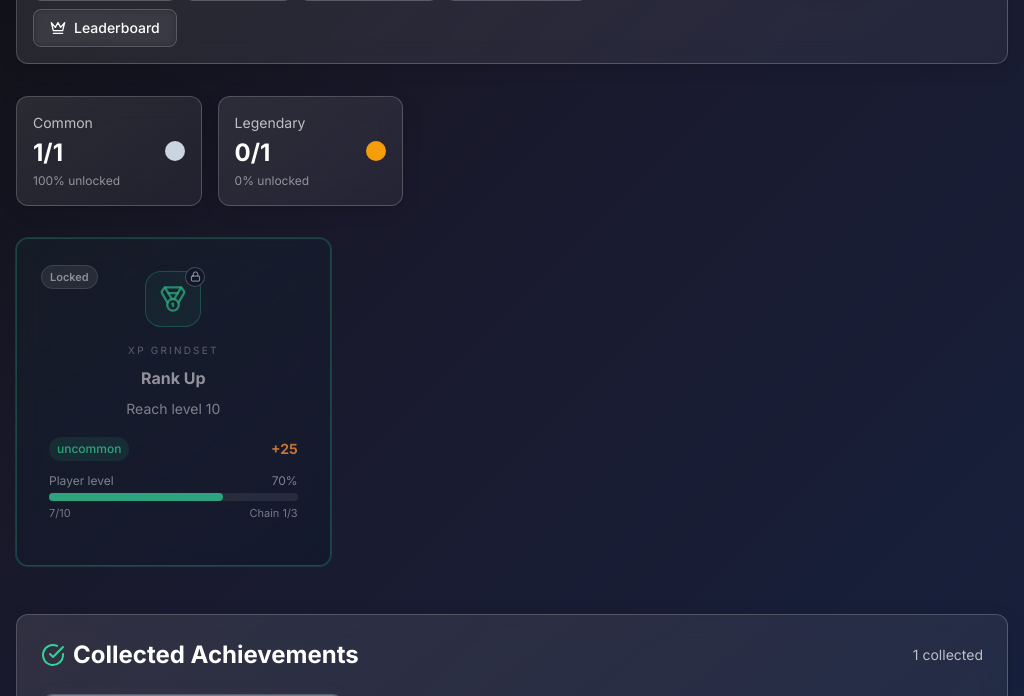
Test: AchievementsPage › supports keyboard navigation for chain tiers
(page scrolled)
Click the text "XP Grindset": (173, 350) [128,344,218,356]
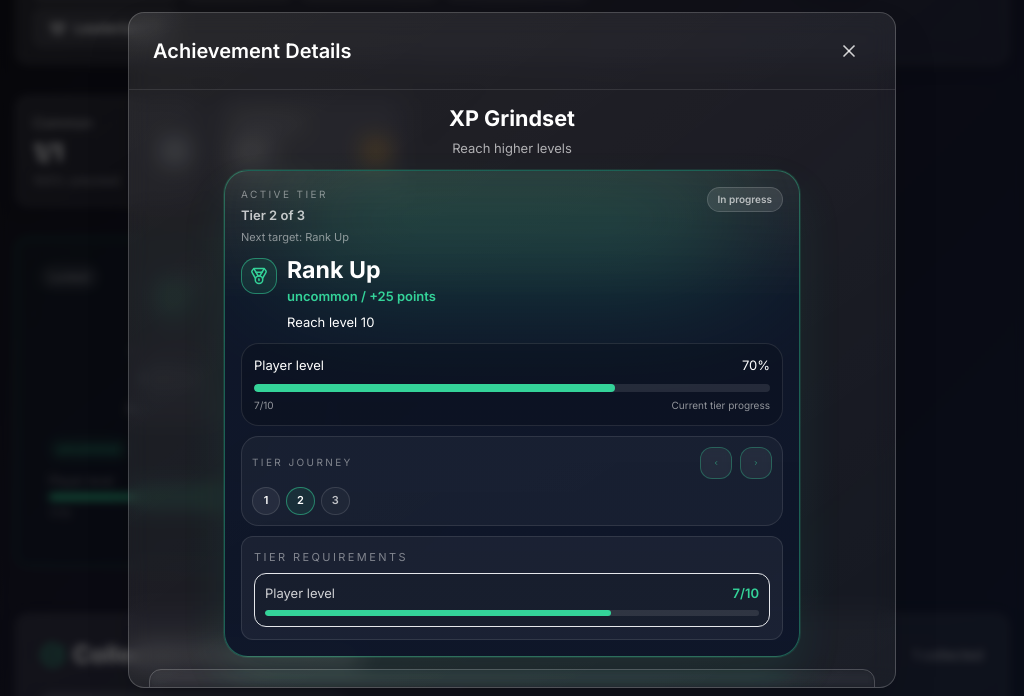
Now the text "Tier 2 of 3" is shown, box [241,207,305,223]
Press ArrowRight
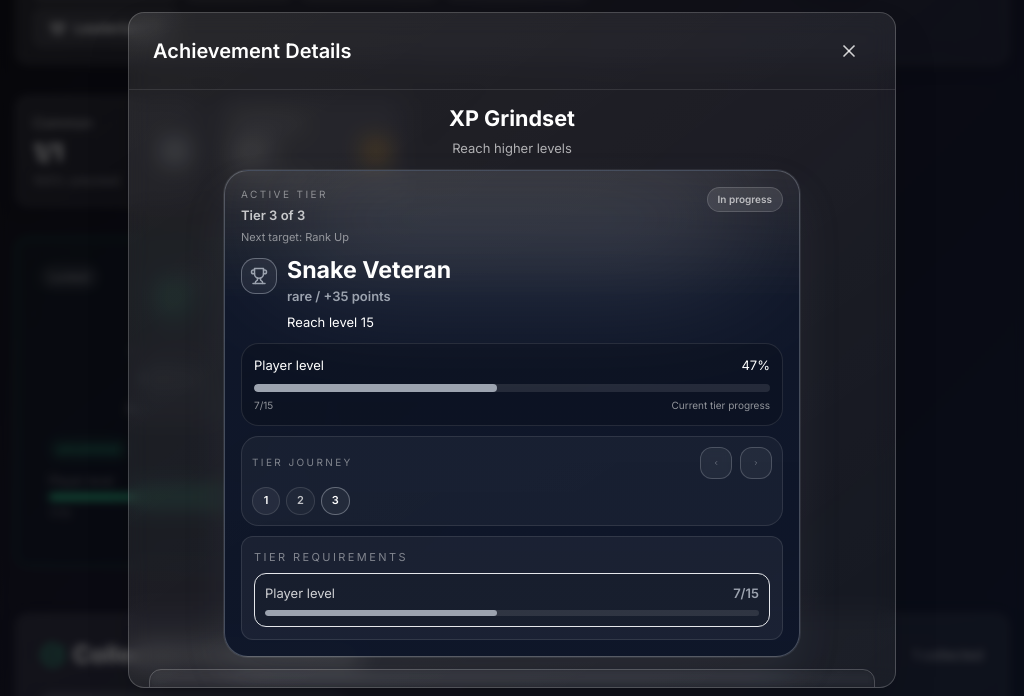
Now the text "Tier 3 of 3" is shown, box [241,207,305,223]
Now the heading "Snake Veteran" is shown, box [287,256,451,285]
Press Home
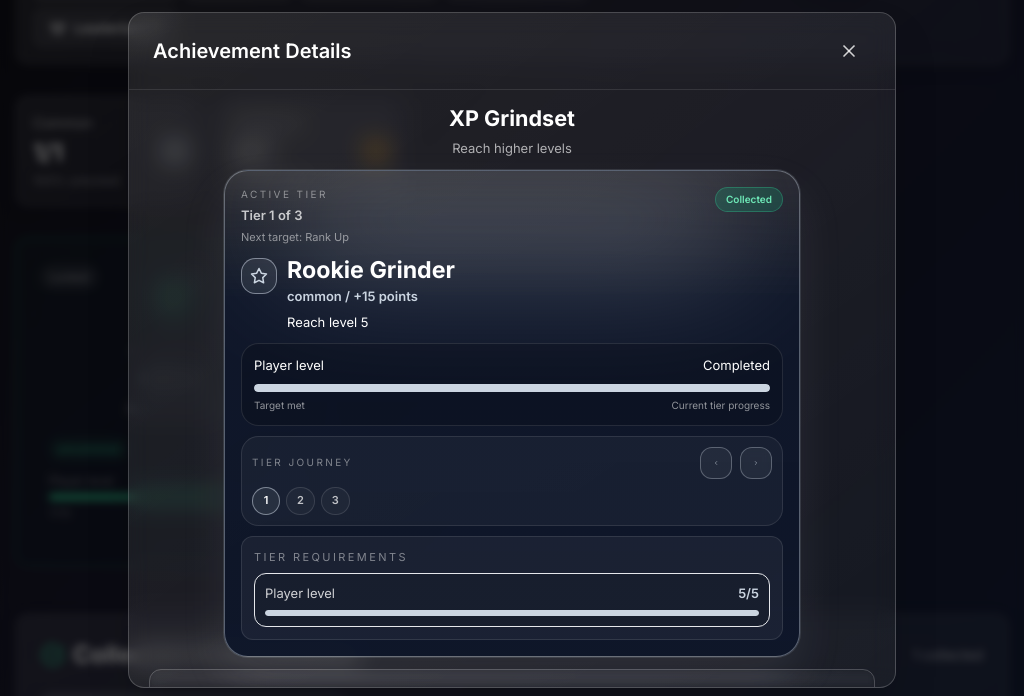
Now the text "Tier 1 of 3" is shown, box [241,207,302,223]
Press End
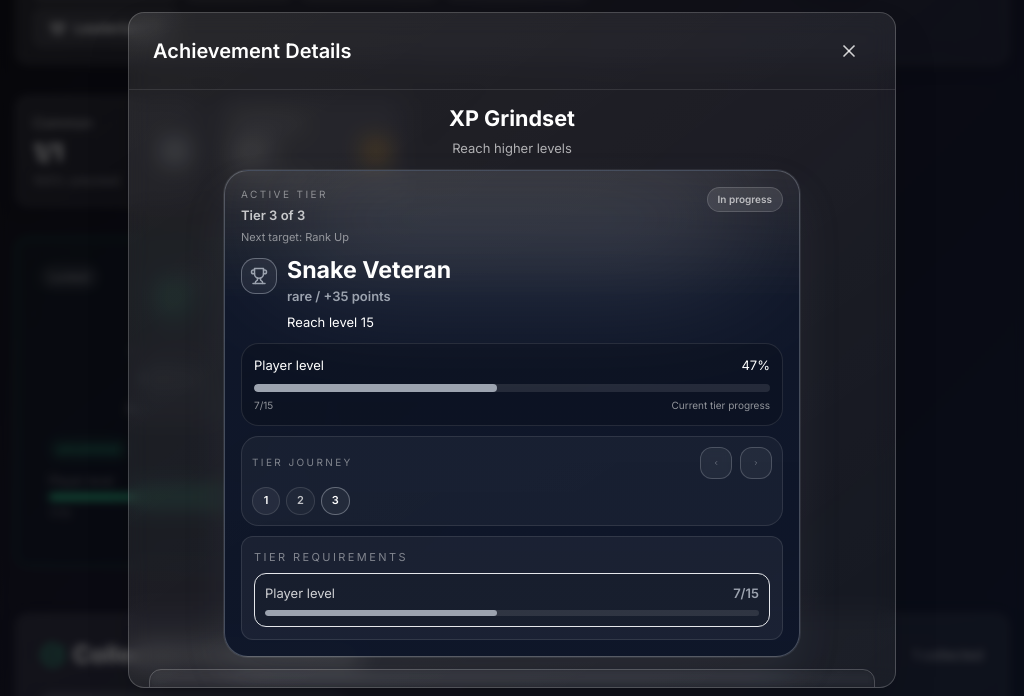
Now the text "Tier 3 of 3" is shown, box [241,207,305,223]
Press ArrowLeft
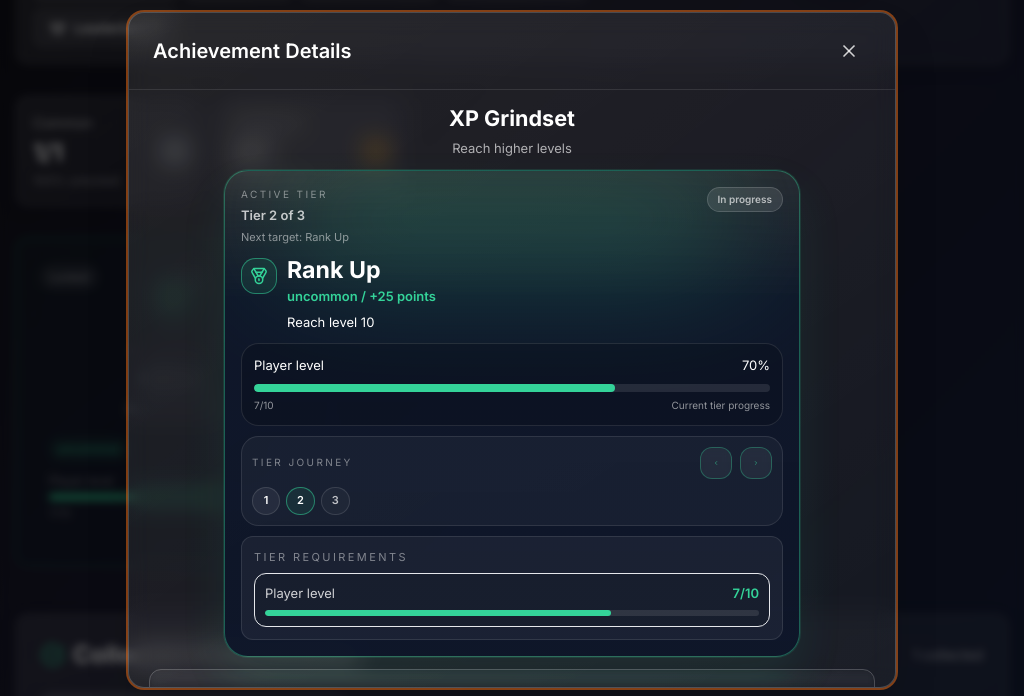
Now the text "Tier 2 of 3" is shown, box [241,207,305,223]
